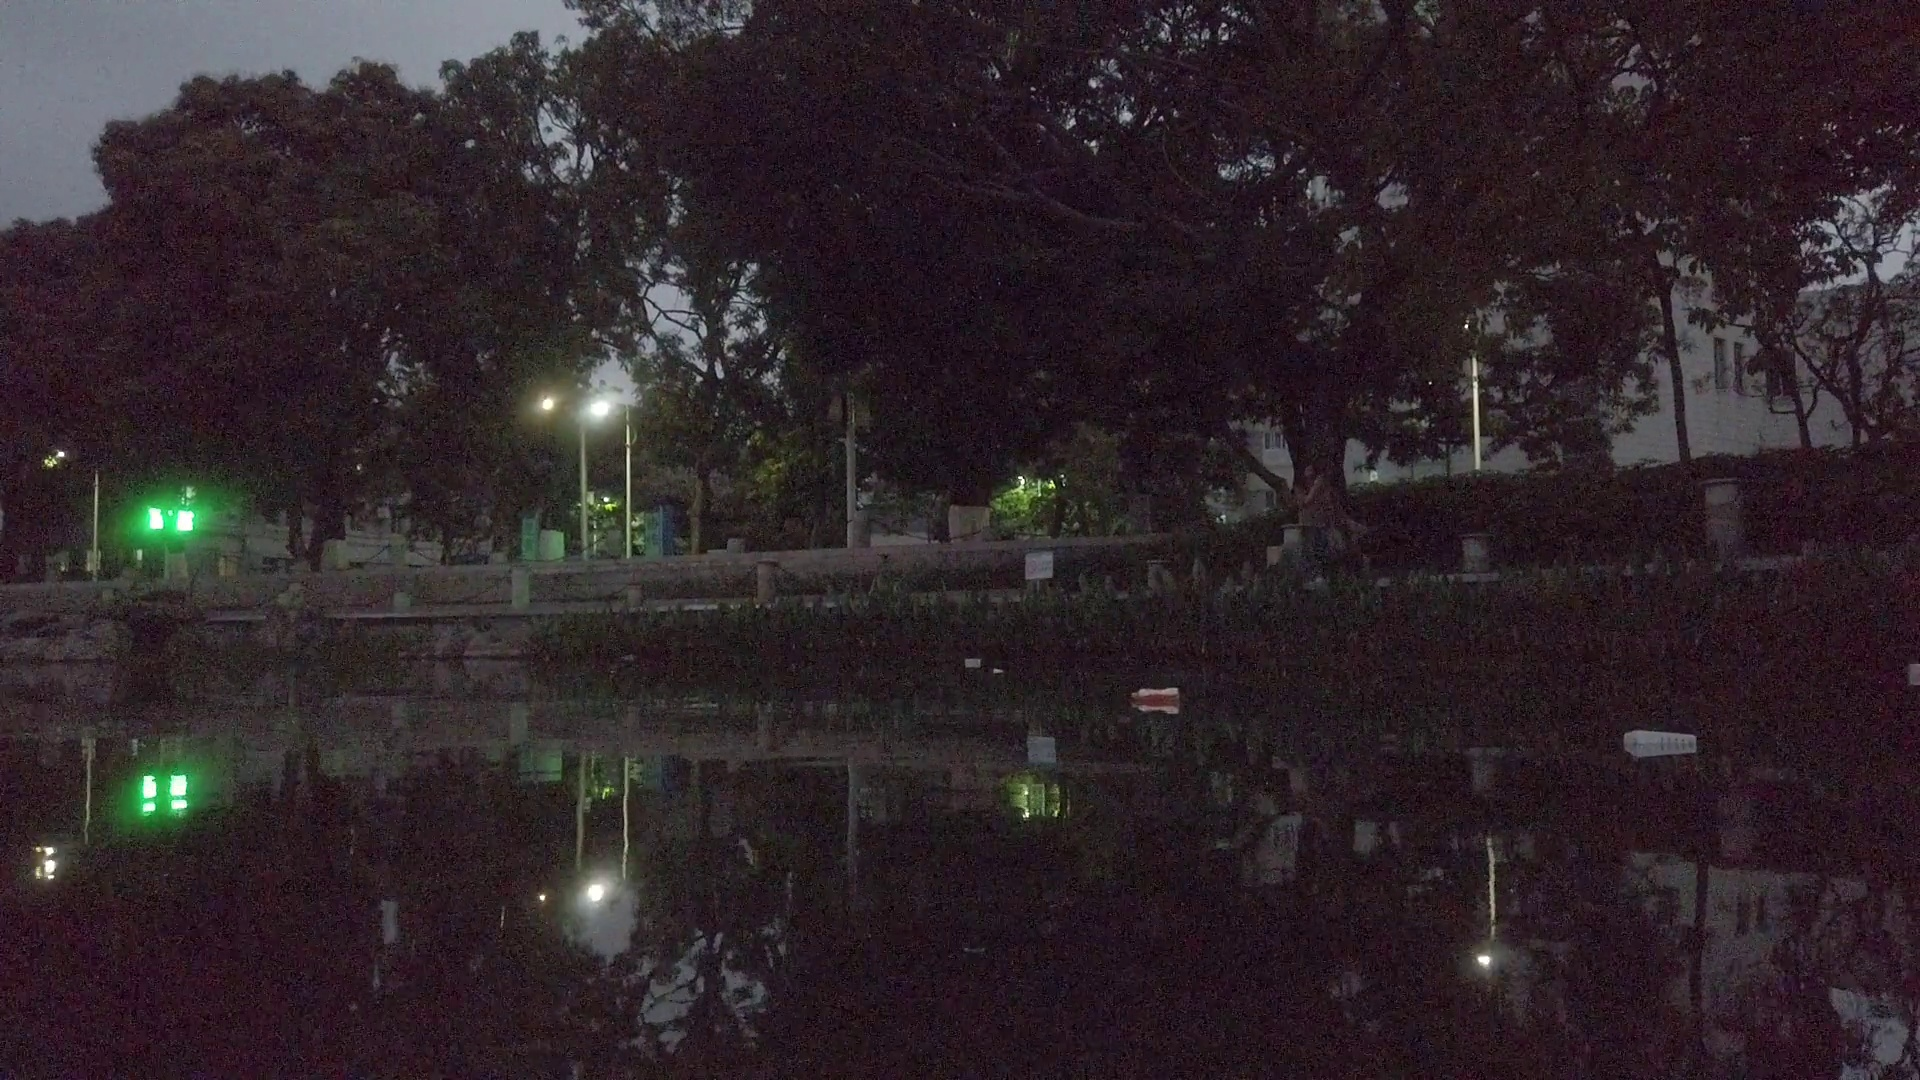bottle: (1127, 686, 1187, 709)
carton: (1623, 728, 1698, 760), (1908, 662, 1920, 688), (965, 657, 982, 667)
